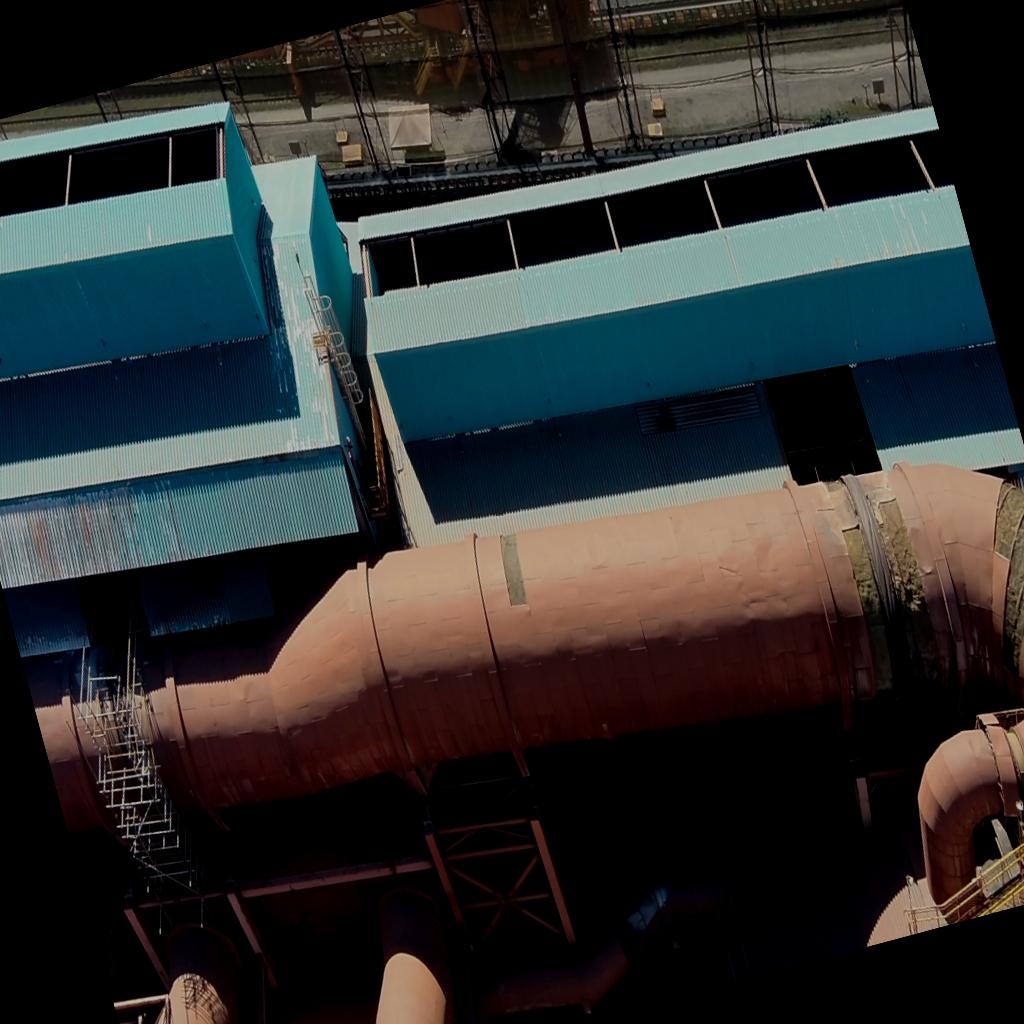Failures: (872, 490, 950, 684), (832, 513, 907, 692), (959, 469, 1024, 670), (486, 518, 543, 606)
